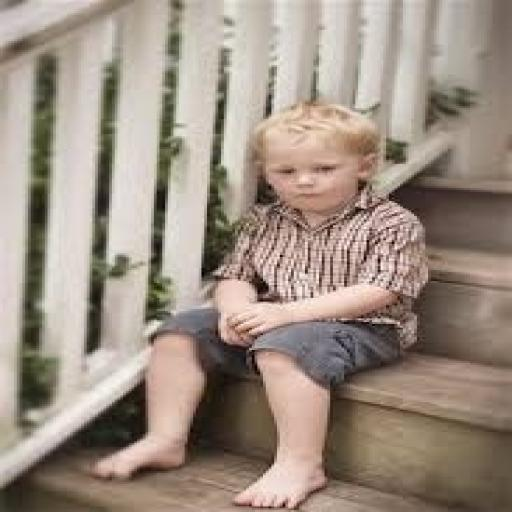sitting: (87, 99, 431, 510)
